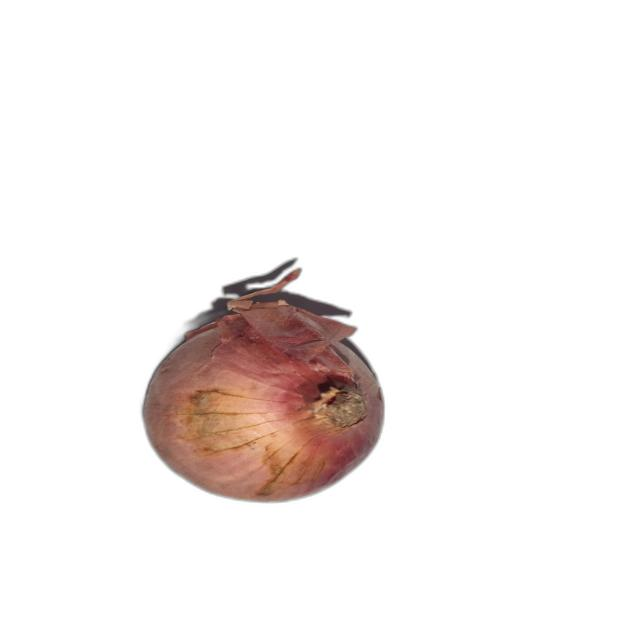onion: (140, 268, 388, 504)
